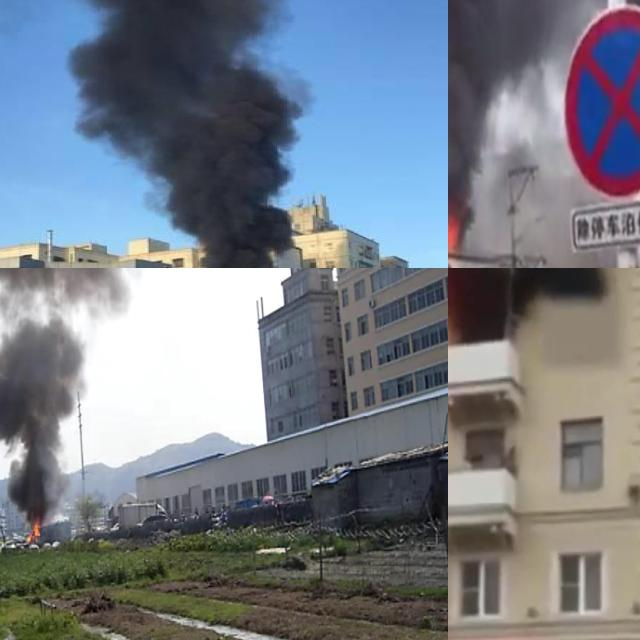fire: (448, 209, 462, 254), (24, 515, 42, 543)
smoke: (63, 0, 297, 268), (0, 315, 77, 513), (448, 268, 600, 340), (448, 0, 592, 73), (448, 0, 489, 204)
